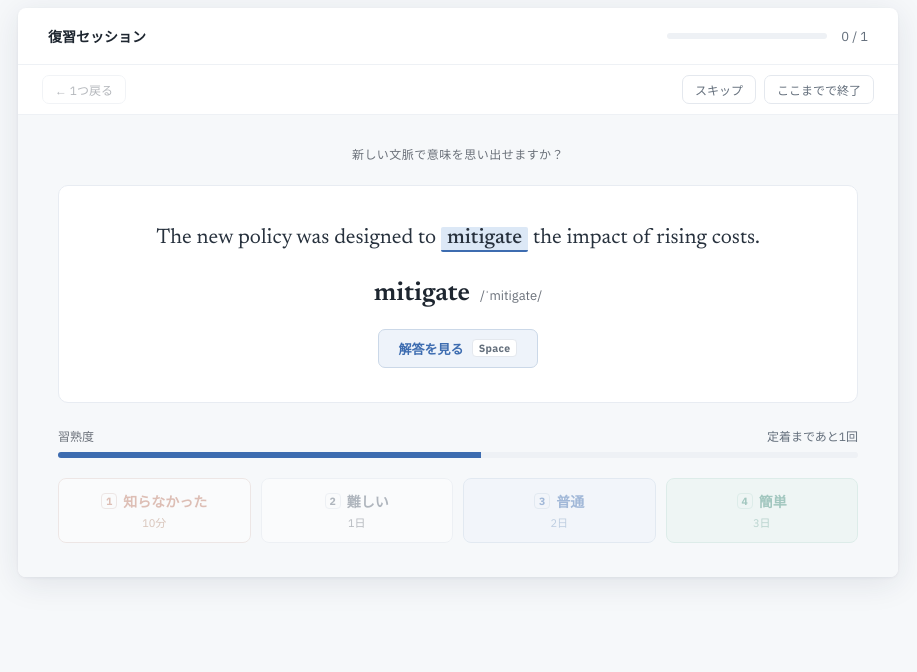
<ReviewSession/> › re-inserts an Again word later in the same session (up to 2 rounds)
Click the button with test id "review-reveal": point(458, 348) [378,329,538,368]
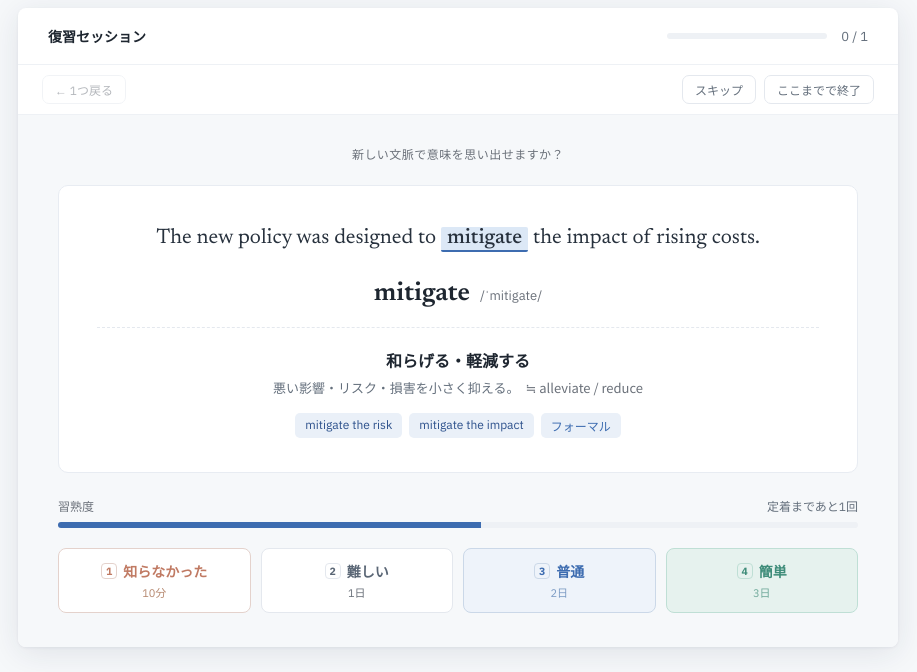
Click the button with test id "rate-1": point(154, 580) [58,548,250,613]
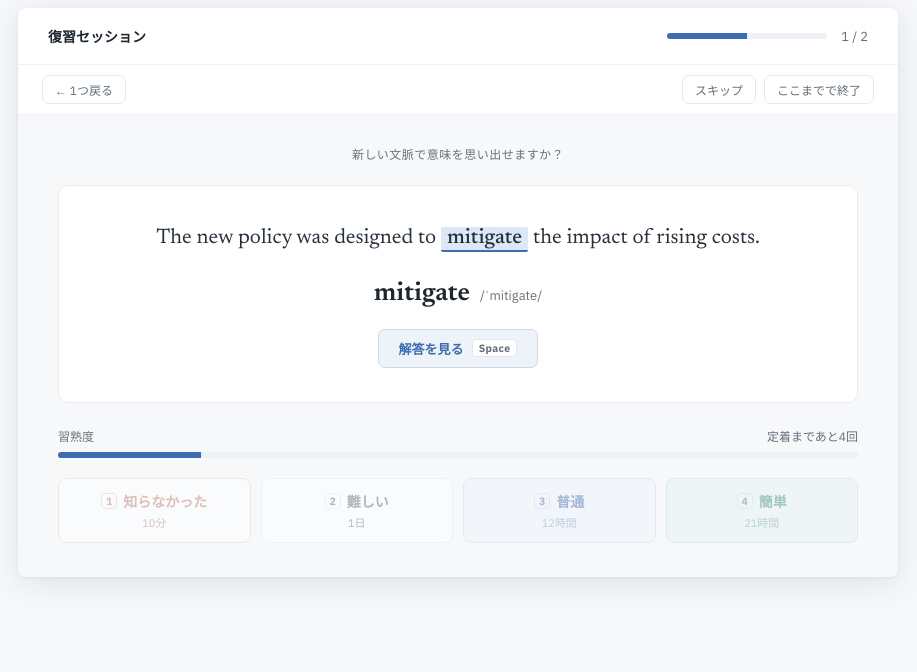
expect the text with test id "review-target" reads "mitigate": met, box [447,228,522,249]
expect the button with test id "review-reveal" is shown: met
Click the button with test id "review-reveal": point(458, 348) [378,329,538,368]
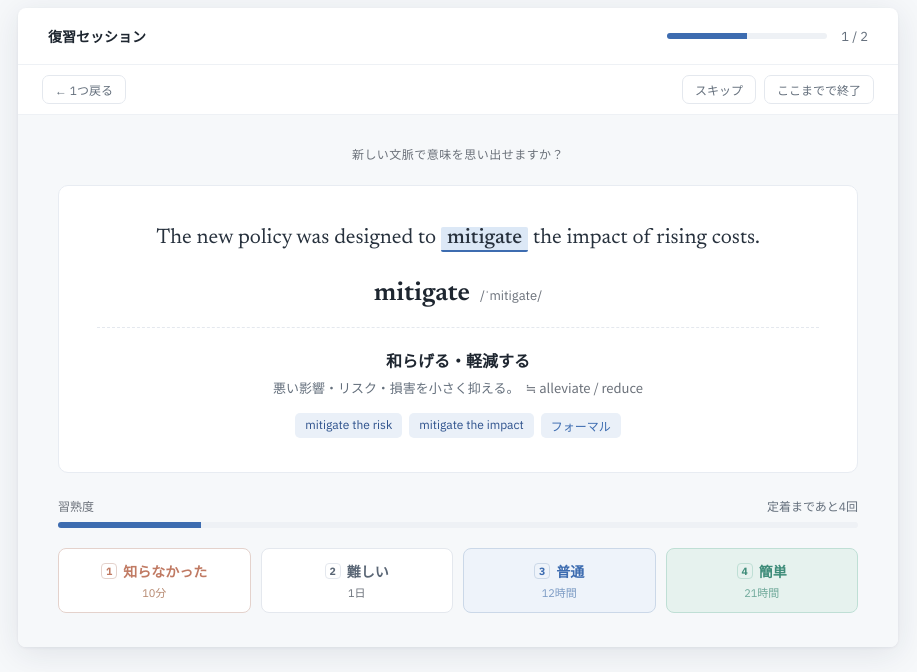
Click the button with test id "rate-1": point(154, 580) [58,548,250,613]
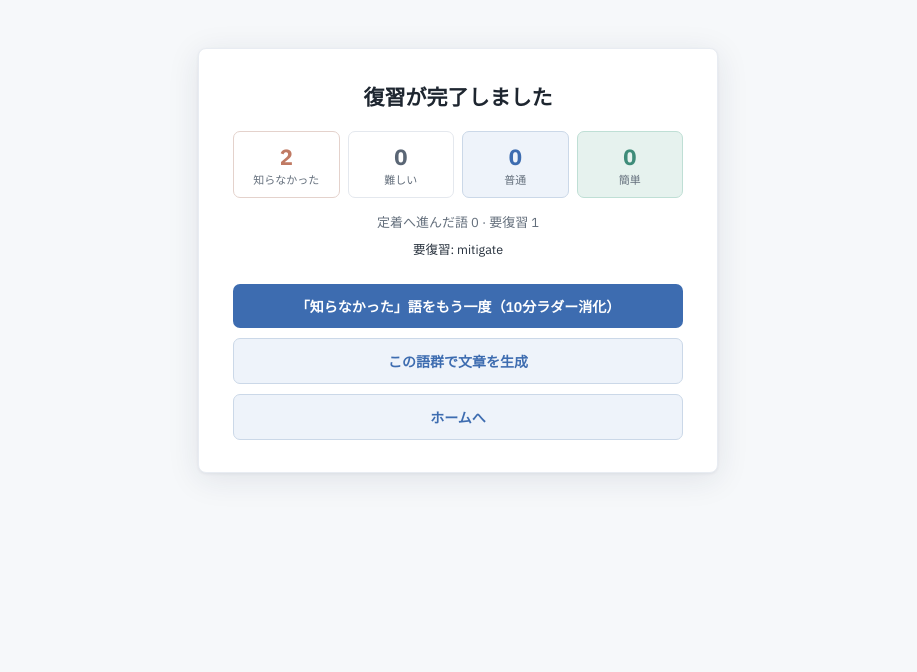
expect the text "復習が完了しました" is shown: met, box [364,90,552,111]
